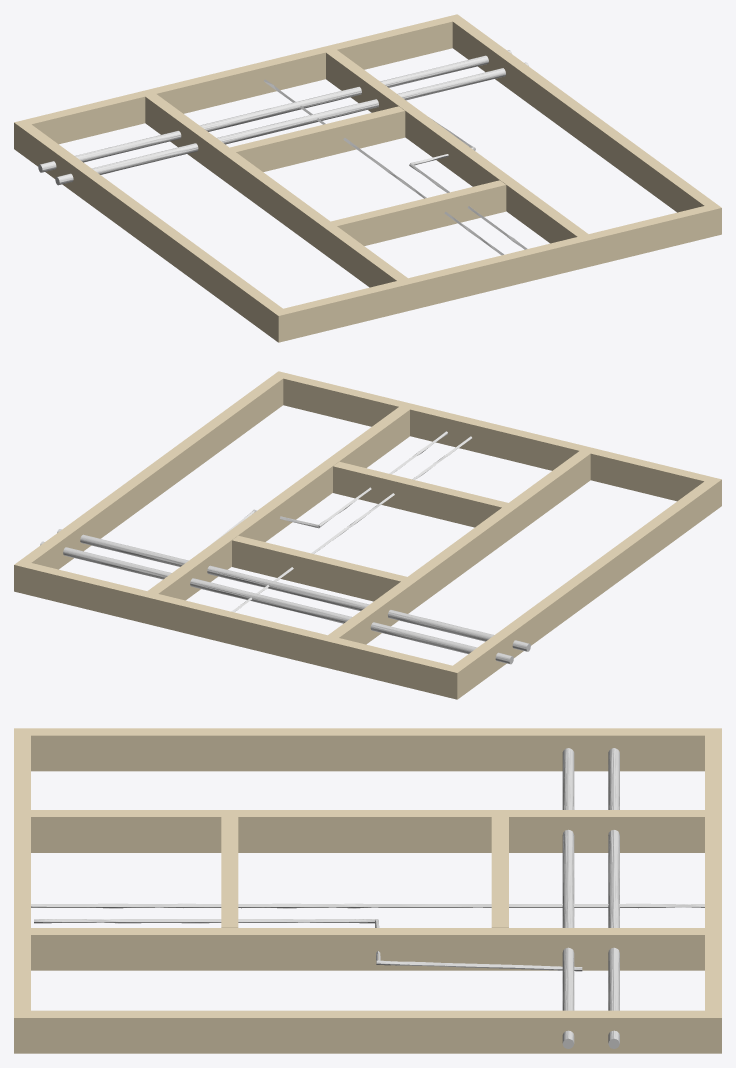
The picture shows the model from 3 angles, top to bottom: view 1: azimuth 30°, elevation 25°; view 2: azimuth 150°, elevation 25°; view 3: azimuth 270°, elevation 25°; orthographic projection. The views are drawn at different scales.
Visible parts, largest first — view 1: FamilySymbol Structural Framing <357323 Vertical> (×4), FamilySymbol Structural Framing <364971 Horizontal Bases> (×2), FamilySymbol Structural Framing <371899 Horizontal Bases> (×2), FamilySymbol Structural Framing <365234 Pipe>, FamilySymbol Structural Framing <365312 Pipe>, FamilyInstance Structural Columns Concrete-Round-Column <369; view 2: FamilySymbol Structural Framing <357323 Vertical> (×4), FamilySymbol Structural Framing <364971 Horizontal Bases> (×2), FamilySymbol Structural Framing <371899 Horizontal Bases> (×2), FamilySymbol Structural Framing <365312 Pipe>, FamilySymbol Structural Framing <365234 Pipe>, FamilyInstance Structural Columns Concrete-Round-Column <369; view 3: FamilySymbol Structural Framing <357323 Vertical> (×4), FamilySymbol Structural Framing <364971 Horizontal Bases> (×2), FamilySymbol Structural Framing <371899 Horizontal Bases> (×2), FamilySymbol Structural Framing <365312 Pipe>, FamilySymbol Structural Framing <365234 Pipe>, FamilyInstance Structural Columns Concrete-Round-Column <369, FamilyInstance Structural Columns Concrete-Round-Column <368, FamilyInstance Structural Columns Concrete-Round-Column <372.
Boxes of the visible parts, x1,y1,x2,y2 form: FamilySymbol Structural Framing <357323 Vertical> (×4): [20, 19, 715, 337]; FamilySymbol Structural Framing <364971 Horizontal Bases> (×2): [14, 14, 721, 342]; FamilySymbol Structural Framing <371899 Horizontal Bases> (×2): [230, 106, 506, 245]; FamilySymbol Structural Framing <365234 Pipe>: [38, 50, 511, 172]; FamilySymbol Structural Framing <365312 Pipe>: [55, 62, 528, 185]; FamilyInstance Structural Columns Concrete-Round-Column <369: [264, 79, 503, 255]; FamilySymbol Structural Framing <357323 Vertical> (×4): [20, 376, 715, 694]; FamilySymbol Structural Framing <364971 Horizontal Bases> (×2): [14, 371, 721, 699]; FamilySymbol Structural Framing <371899 Horizontal Bases> (×2): [232, 461, 507, 601]; FamilySymbol Structural Framing <365312 Pipe>: [57, 529, 530, 651]; FamilySymbol Structural Framing <365234 Pipe>: [40, 541, 513, 664]; FamilyInstance Structural Columns Concrete-Round-Column <369: [231, 436, 471, 612]; FamilySymbol Structural Framing <357323 Vertical> (×4): [30, 728, 704, 1053]; FamilySymbol Structural Framing <364971 Horizontal Bases> (×2): [14, 728, 721, 1053]; FamilySymbol Structural Framing <371899 Horizontal Bases> (×2): [221, 817, 508, 927]; FamilySymbol Structural Framing <365312 Pipe>: [562, 748, 574, 1048]; FamilySymbol Structural Framing <365234 Pipe>: [608, 748, 619, 1048]; FamilyInstance Structural Columns Concrete-Round-Column <369: [31, 903, 704, 908]; FamilyInstance Structural Columns Concrete-Round-Column <368: [34, 919, 376, 923]; FamilyInstance Structural Columns Concrete-Round-Column <372: [376, 960, 582, 971].
Size of the model in its own units: 1621 by 88 by 1581.
